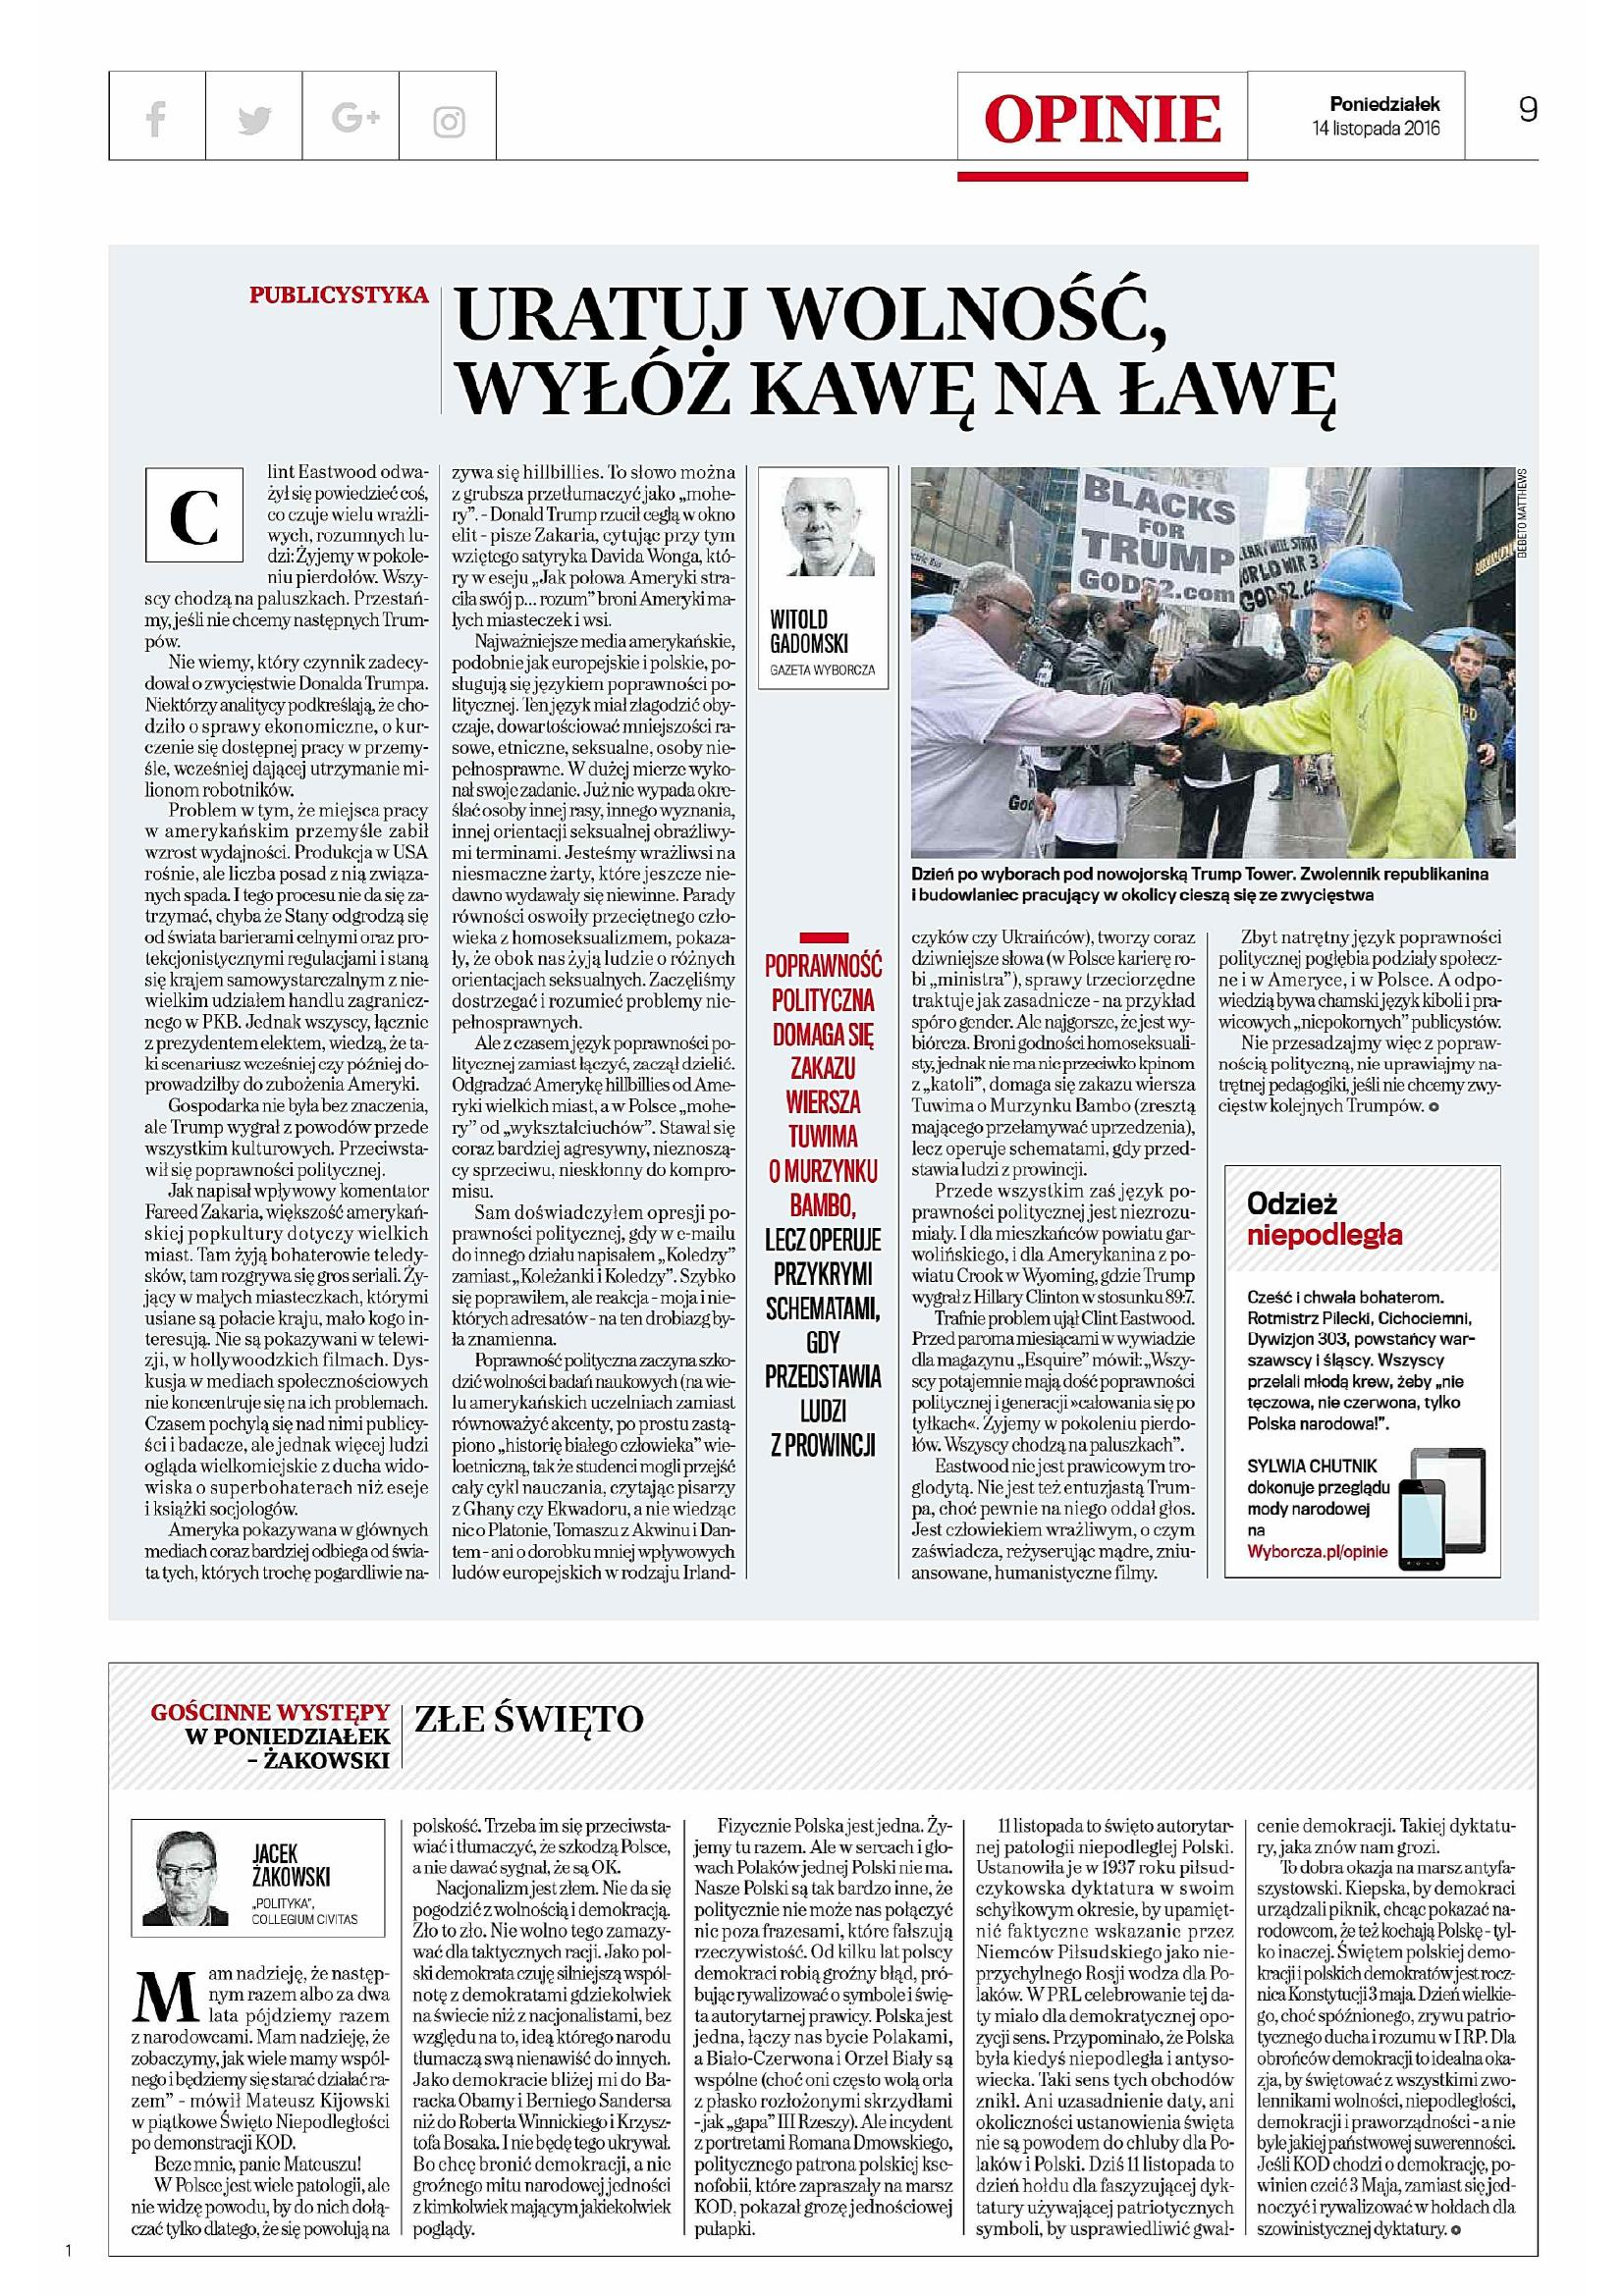article: (107, 246, 1539, 1617), (111, 1662, 1539, 2257)
